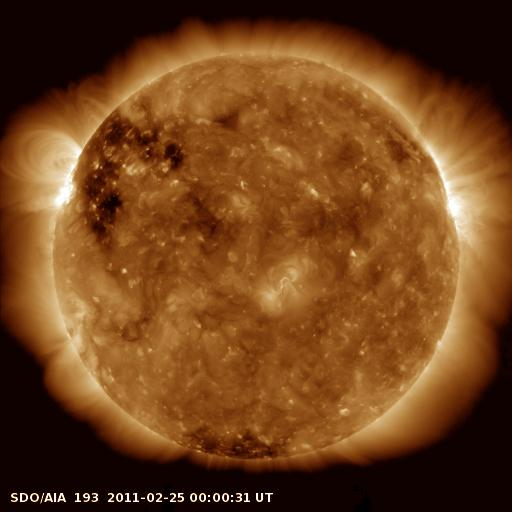coronal_hole: (69, 109, 186, 238), (185, 424, 282, 472)
